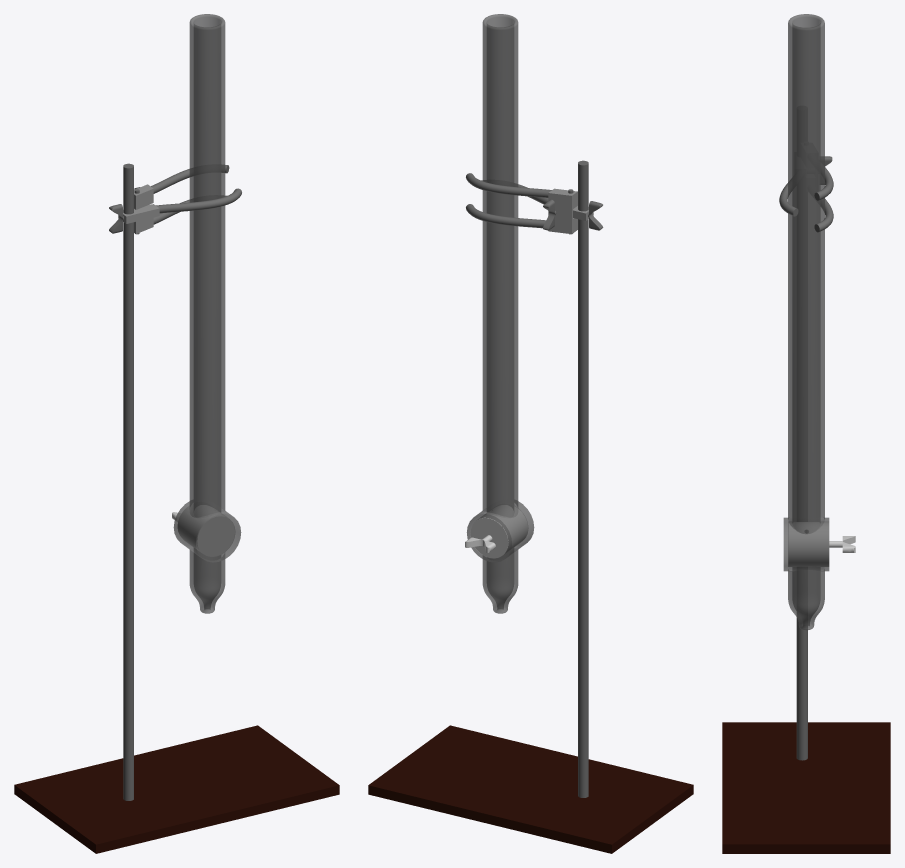
File: BuretOpen.obj
3 renders of one model, left to right at view 1: azimuth 30°, elevation 25°; view 2: azimuth 150°, elevation 25°; view 3: azimuth 270°, elevation 25°, orthographic. The views are drawn at different scales.
Parts seen in each view (by area): view 1: Mesh1_Titration_Items1_Model, Mesh2_Titration_Items1_Model, Mesh3_Titration_Items1_Model; view 2: Mesh1_Titration_Items1_Model, Mesh2_Titration_Items1_Model, Mesh3_Titration_Items1_Model; view 3: Mesh1_Titration_Items1_Model, Mesh2_Titration_Items1_Model, Mesh3_Titration_Items1_Model.
Part boxes in pixels (left/top/right/bottom): Mesh1_Titration_Items1_Model: left=14, top=163, right=339, bottom=853; Mesh2_Titration_Items1_Model: left=173, top=14, right=241, bottom=613; Mesh3_Titration_Items1_Model: left=172, top=504, right=234, bottom=556; Mesh1_Titration_Items1_Model: left=368, top=160, right=693, bottom=853; Mesh2_Titration_Items1_Model: left=466, top=14, right=534, bottom=613; Mesh3_Titration_Items1_Model: left=465, top=505, right=527, bottom=558; Mesh1_Titration_Items1_Model: left=722, top=156, right=890, bottom=853; Mesh2_Titration_Items1_Model: left=783, top=14, right=829, bottom=630; Mesh3_Titration_Items1_Model: left=789, top=522, right=855, bottom=566.
Size of the model in its own units: 86.76 by 261 by 50.49.
